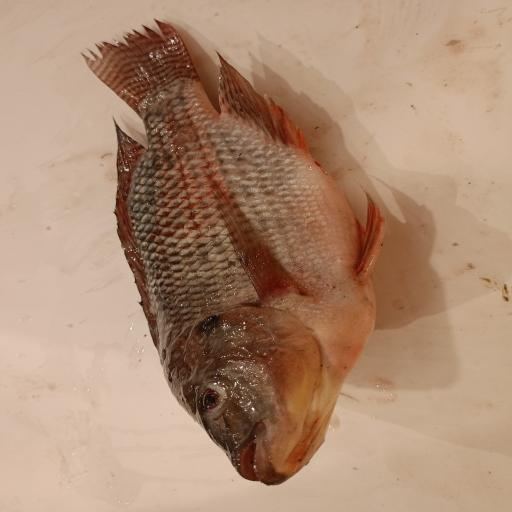Tilapia: (81, 19, 386, 487)
